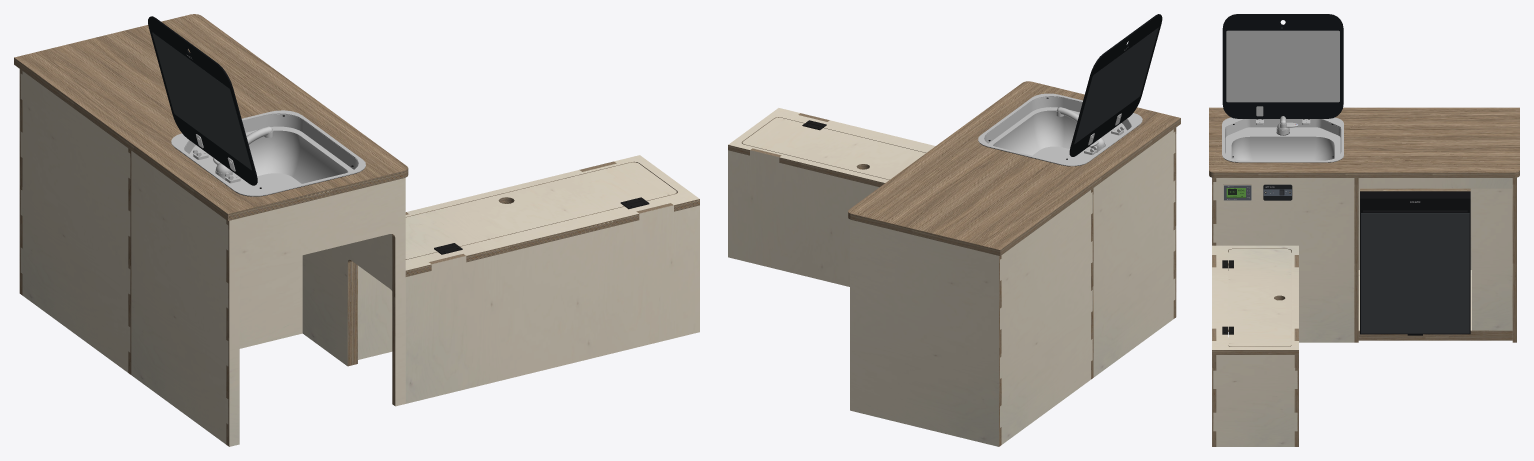
Rendered from front-module-rear-140-birch.glb.
3 views of the same model, side by side, from view 1: azimuth 30°, elevation 25°; view 2: azimuth 150°, elevation 25°; view 3: azimuth 270°, elevation 25° (orthographic). The views are drawn at different scales.
Visible parts, largest first — view 1: Forward end panel -15mm with top tenons_1, ボディ61_0, Back panel - 15mm with tenons_0.002, Back panel - 15mm with tenons_0.001, Forward end panel -15mm with top tenons_1.001, ボディ56_1, Stainless basin with rear faucet ledge_0, Front panel - 15mm with tenons_1.001, Gray ceramic printed field approximation_0, Forward end panel -15mm with top tenons_1.002, ボディ57_1, Black safety glass_0 (+5 smaller); view 2: Rearward end panel -15mm with top tenons_1.001, ボディ61_0, Back panel - 15mm with tenons_0.002, Back panel - 15mm with tenons_0.001, Rearward end panel -15mm with top tenons_1, Stainless basin with rear faucet ledge_0, ボディ56_1, Gray ceramic printed field approximation_0, ボディ57_1, Black safety glass_0, ボディ57_0, Forward end panel -15mm with top tenons_0.001 (+1 smaller); view 3: ボディ61_0, Front panel - 15mm with tenons_1.001, Dark gray frameless face_0, ボディ15 (1)_0, Front panel - 15mm with tenons_0, ボディ56_1, Rear extension removable infill - 140x540x15mm_1, Stainless basin with rear faucet ledge_0, Black safety glass_0, ボディ57_1, Door black surround with full-width recessed handle_0, ボディ53_1 (+10 smaller).
Boxes of the visible parts, x1,y1,x2,y2 form: Forward end panel -15mm with top tenons_1: (405,205,699,403); ボディ61_0: (14,14,408,220); Back panel - 15mm with tenons_0.002: (20,71,130,372); Back panel - 15mm with tenons_0.001: (131,151,228,444); Forward end panel -15mm with top tenons_1.001: (229,177,405,446); ボディ56_1: (405,162,676,258); Stainless basin with rear faucet ledge_0: (171,110,365,196); Front panel - 15mm with tenons_1.001: (302,234,392,365); Gray ceramic printed field approximation_0: (152,32,251,170); Forward end panel -15mm with top tenons_1.002: (239,255,302,348); ボディ57_1: (405,155,699,270); Black safety glass_0: (148,16,257,185); Rearward end panel -15mm with top tenons_1.001: (850,219,998,446); ボディ61_0: (848,81,1180,255); Back panel - 15mm with tenons_0.002: (1000,190,1092,444); Back panel - 15mm with tenons_0.001: (1093,129,1175,377); Rearward end panel -15mm with top tenons_1: (728,150,878,286); Stainless basin with rear faucet ledge_0: (978,93,1142,166); ボディ56_1: (742,117,925,179); Gray ceramic printed field approximation_0: (1074,27,1158,143); ボディ57_1: (728,108,935,182); Black safety glass_0: (1069,14,1162,156); ボディ57_0: (728,117,925,187); Forward end panel -15mm with top tenons_0.001: (1173,128,1176,318); ボディ61_0: (1209,107,1519,177); Front panel - 15mm with tenons_1.001: (1213,178,1354,342); Dark gray frameless face_0: (1361,213,1469,333); ボディ15 (1)_0: (1226,30,1339,102); Front panel - 15mm with tenons_0: (1213,355,1297,446); ボディ56_1: (1228,249,1291,346); Rear extension removable infill - 140x540x15mm_1: (1472,188,1512,330); Stainless basin with rear faucet ledge_0: (1222,117,1343,162); Black safety glass_0: (1222,14,1343,118); ボディ57_1: (1212,245,1298,349); Door black surround with full-width recessed handle_0: (1360,191,1470,334); ボディ53_1: (1358,178,1512,188).
Size of the model in its own units: 1.37 by 1.02 by 1.07.
30 materials, 4 textured.
